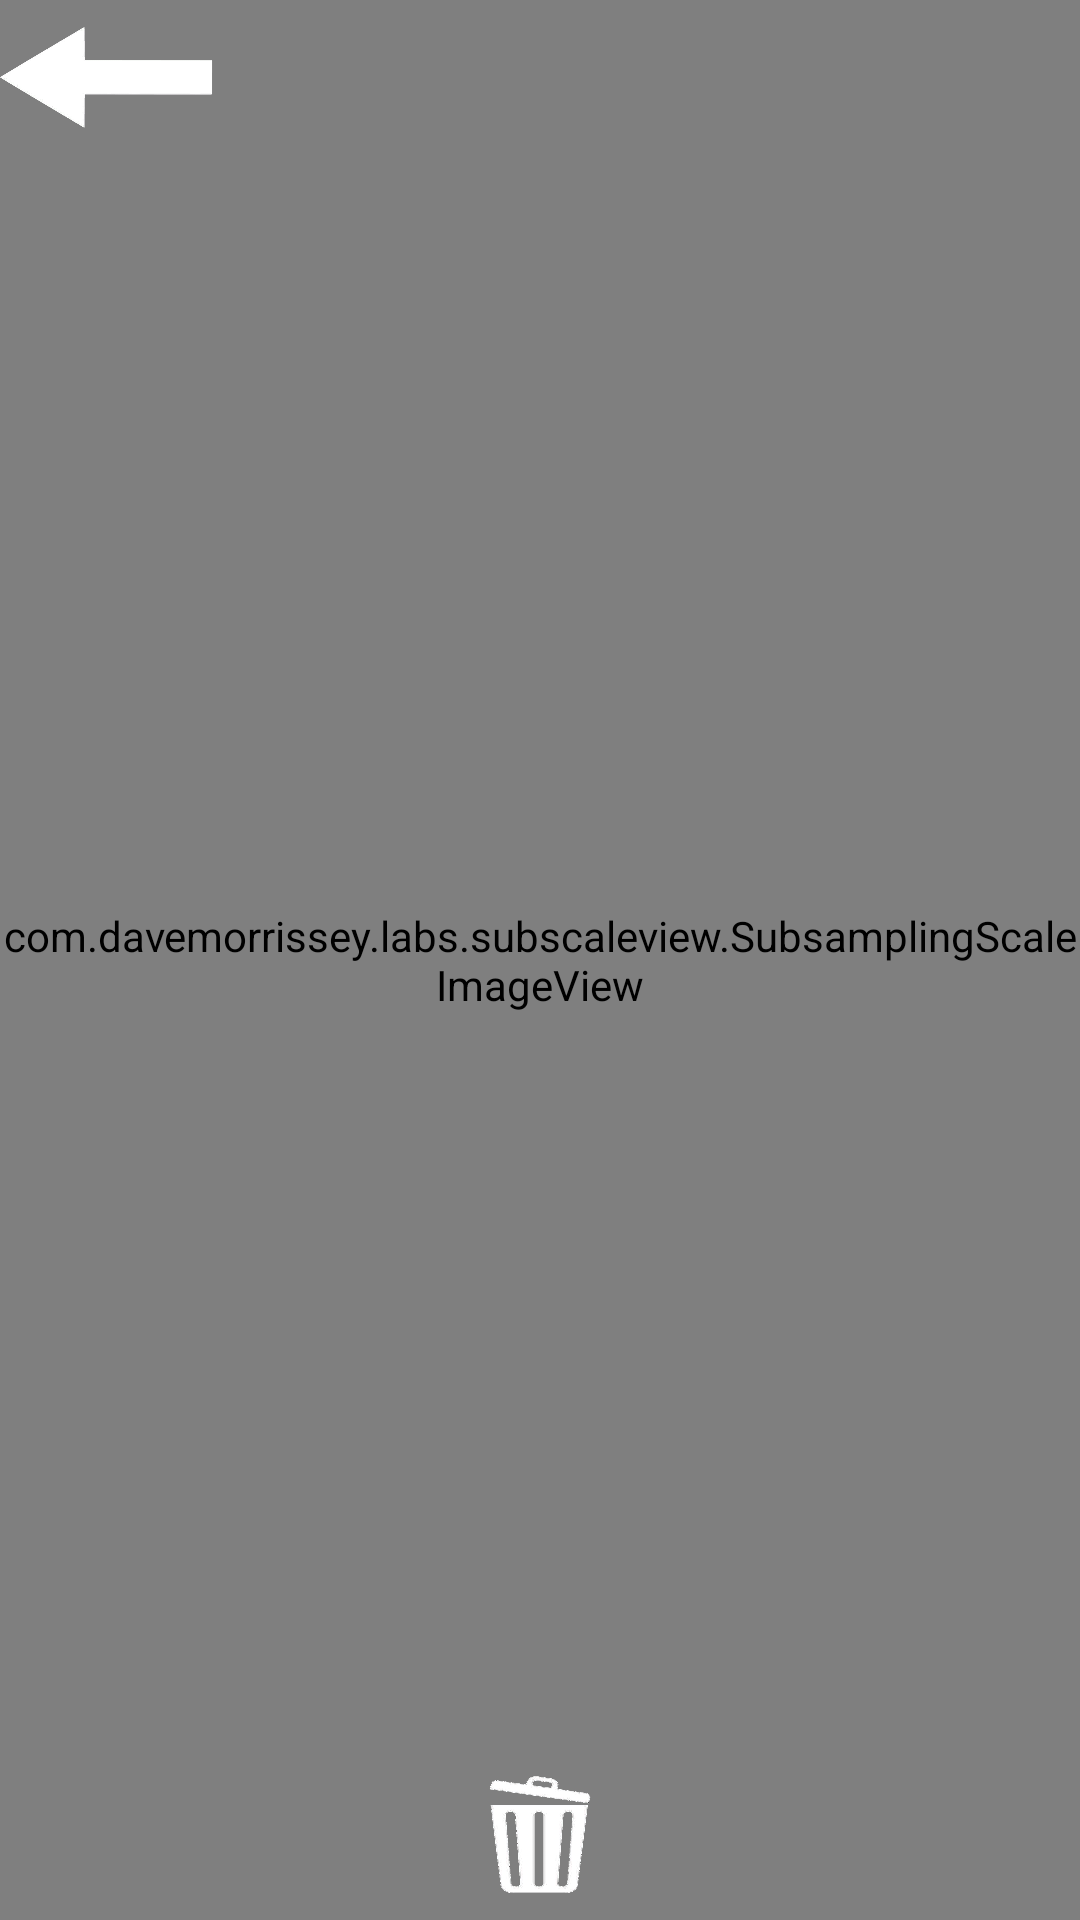

Icon bounding boxes for this 1080 × 1920 phone screenshot, format (x1, y1, x2, y2):
arrow: (0, 27, 212, 128)
waste: (490, 1776, 590, 1893)
